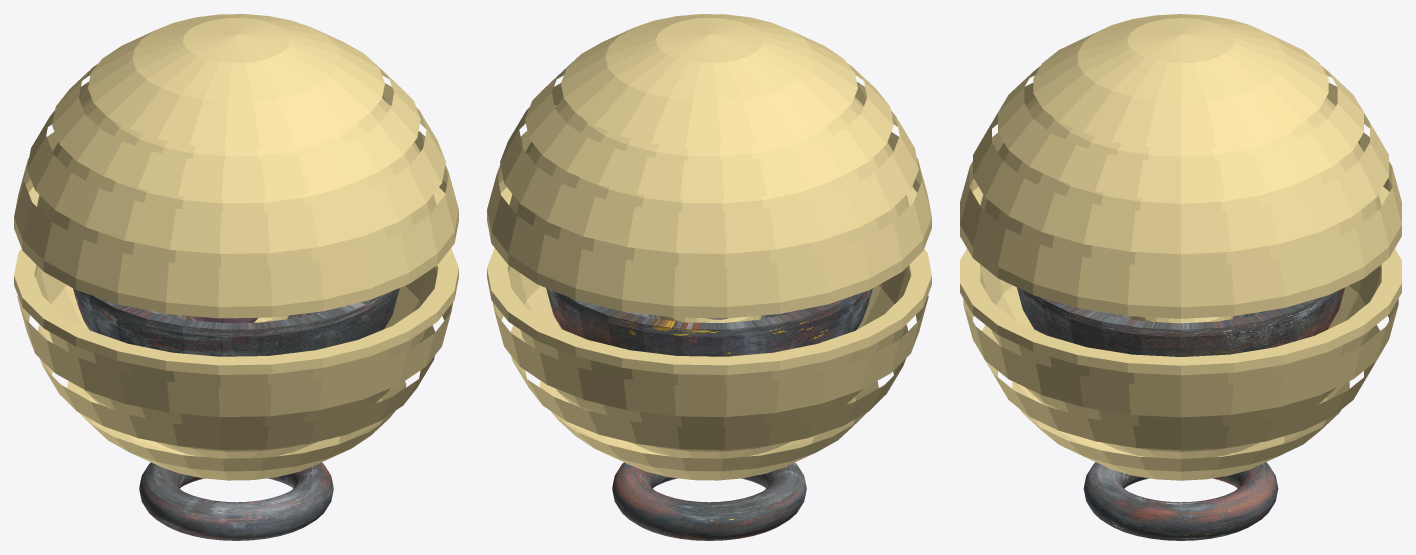
File: gem_choix3.fbx
3 renders of one model, left to right at view 1: azimuth 30°, elevation 25°; view 2: azimuth 150°, elevation 25°; view 3: azimuth 270°, elevation 25°, orthographic.
Parts seen in each view (by area): view 1: Sphère, Sphère_1, Sphère_2, Tore; view 2: Sphère, Sphère_1, Sphère_2, Tore; view 3: Sphère, Sphère_1, Sphère_2, Tore.
Boxes of the visible parts, left/top/right/bottom form: Sphère: left=14, top=14, right=458, bottom=318; Sphère_1: left=14, top=248, right=458, bottom=480; Sphère_2: left=73, top=288, right=399, bottom=356; Tore: left=139, top=462, right=333, bottom=540; Sphère: left=487, top=14, right=931, bottom=318; Sphère_1: left=487, top=248, right=931, bottom=480; Sphère_2: left=546, top=288, right=872, bottom=356; Tore: left=612, top=462, right=806, bottom=540; Sphère: left=960, top=14, right=1401, bottom=318; Sphère_1: left=960, top=248, right=1401, bottom=480; Sphère_2: left=1017, top=287, right=1344, bottom=356; Tore: left=1083, top=462, right=1278, bottom=540.
Bounding box in the file's own units: 10.94 × 12.77 × 10.86.
3 materials, 1 textured.
